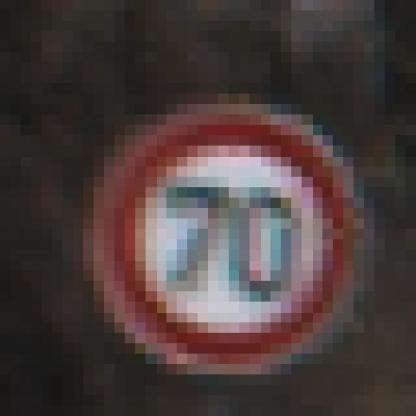Speed Limit 70: (104, 109, 352, 364)
